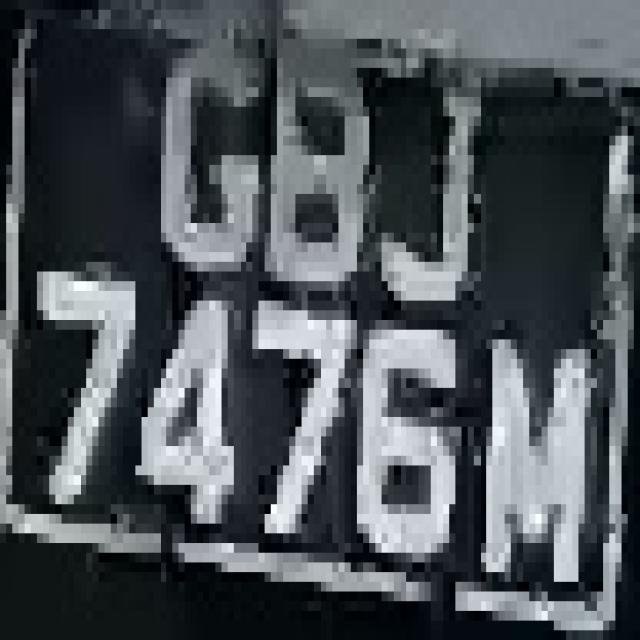4: (135, 272, 240, 562)
6: (357, 310, 474, 572)
7: (6, 223, 129, 553), (222, 262, 338, 572)
B: (252, 29, 376, 330)
G: (142, 39, 283, 291)
J: (357, 68, 492, 330)
M: (462, 281, 609, 601)
